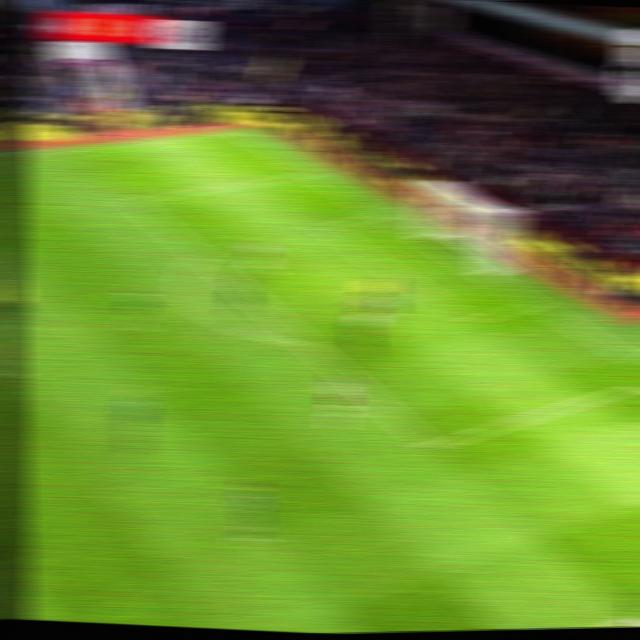bigarea_bottom_inner: (413, 432, 448, 457)
bigarea_top_inner: (115, 189, 146, 209)
bigarea_top_outter: (294, 165, 323, 180)
bottom_arc_area_intersection: (291, 332, 321, 353)
corner: (219, 122, 249, 138)
smallarea_bottom_inner: (453, 307, 485, 330)
smallarea_bottom_outter: (519, 294, 548, 312)
smallarea_top_inner: (305, 215, 337, 234)
smallarea_top_outter: (364, 206, 394, 222)
top_arc_area_intersection: (184, 246, 215, 264)
